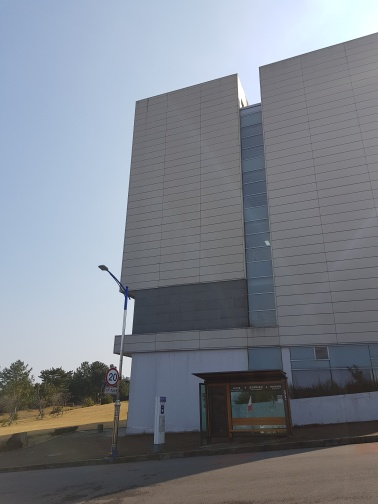Engineering College Building 4: (125, 69, 373, 433), (202, 361, 284, 438)
